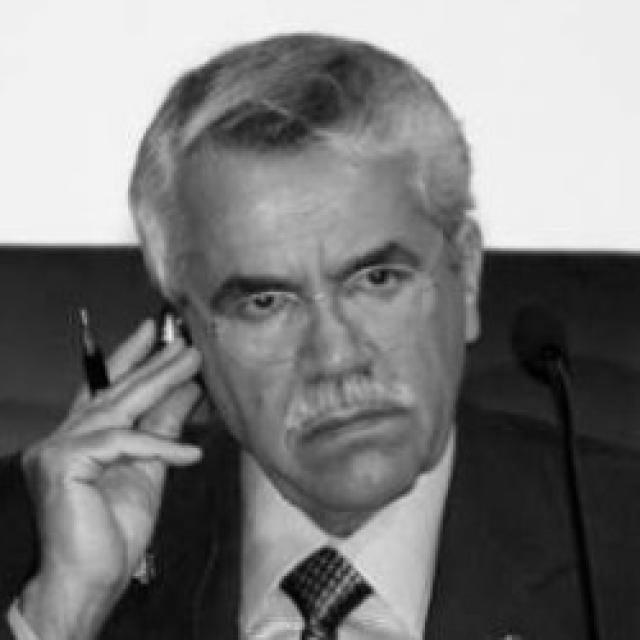real: (186, 148, 476, 509), (218, 250, 425, 330)
